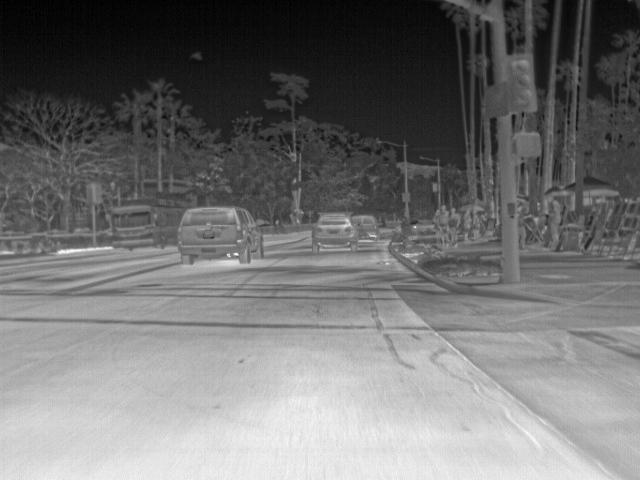car: (176, 204, 266, 264), (309, 212, 358, 249), (351, 214, 378, 240)
person: (460, 204, 476, 241), (446, 206, 459, 244), (436, 204, 449, 230)
